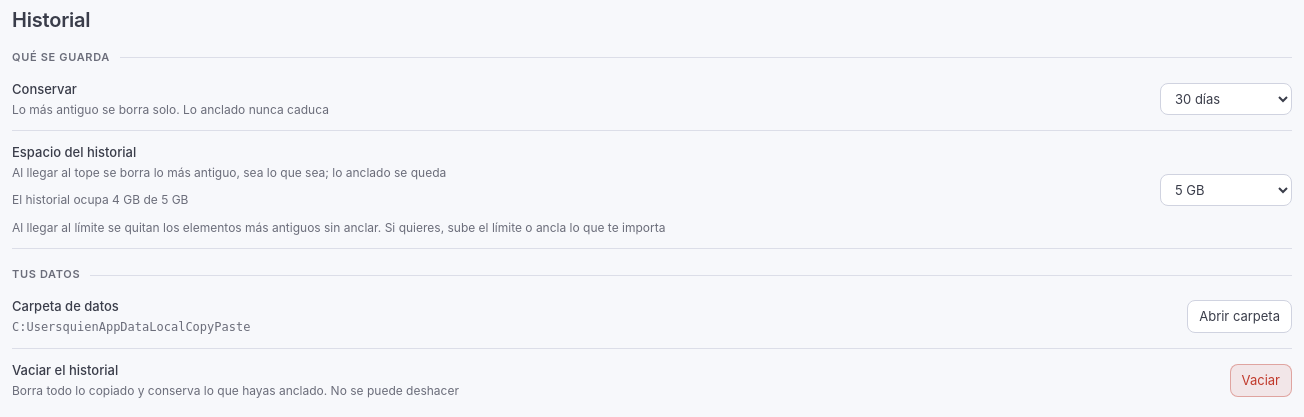
Scenario: the space of the history in Settings › weighs the history again once it is emptied
Expected: the text "El historial ocupa 4 GB de 5 GB" is shown, [12,192,188,207]
Click the button "Vaciar" at (1261, 380), box [1230,364,1292,397]
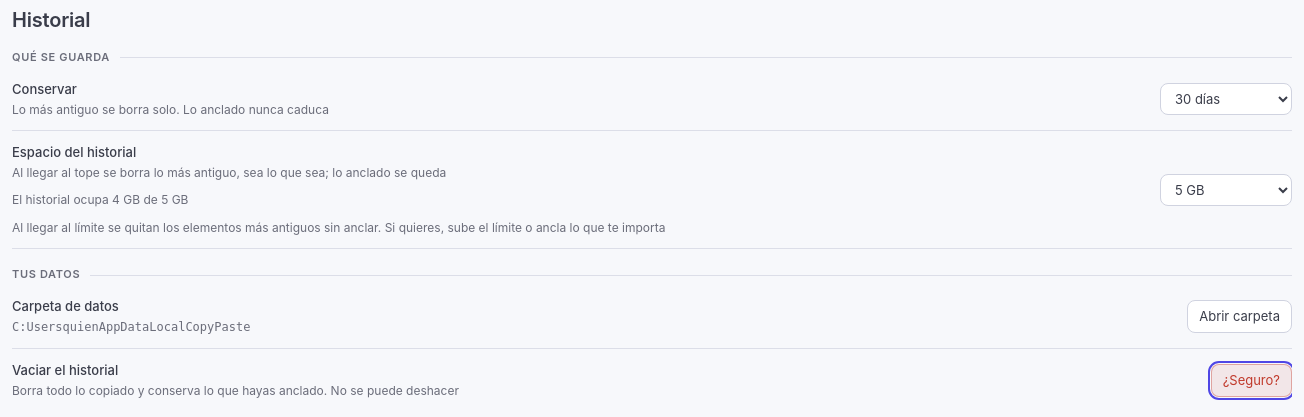
Click the button "¿Seguro?" at (1251, 380), box [1211,364,1292,397]
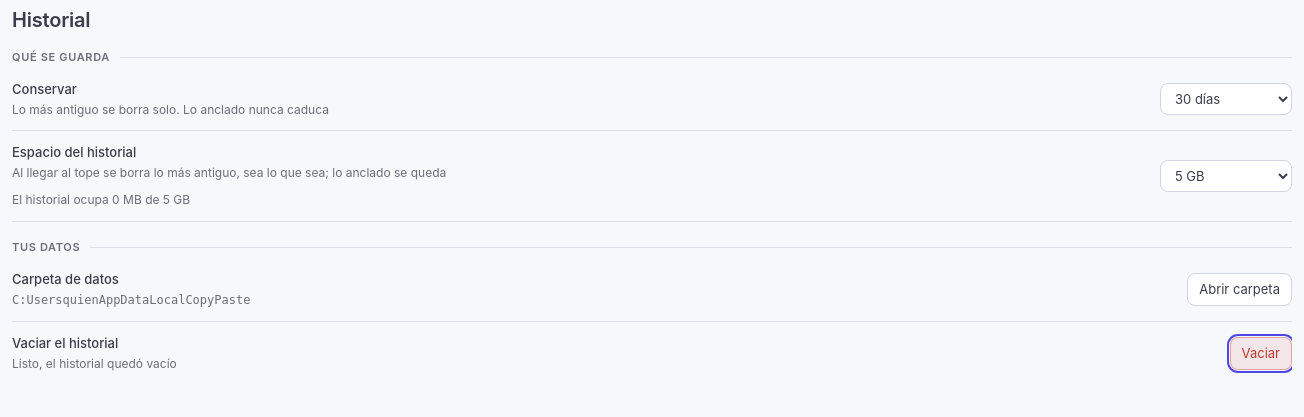
Now the text "Listo, el historial quedó vacío" is shown, box [12,356,177,371]
Now the text "El historial ocupa 0 MB de 5 GB" is shown, box [12,192,190,207]
Now the text "sin anclar" is gone
